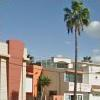Palm tree: (59, 1, 91, 84)
